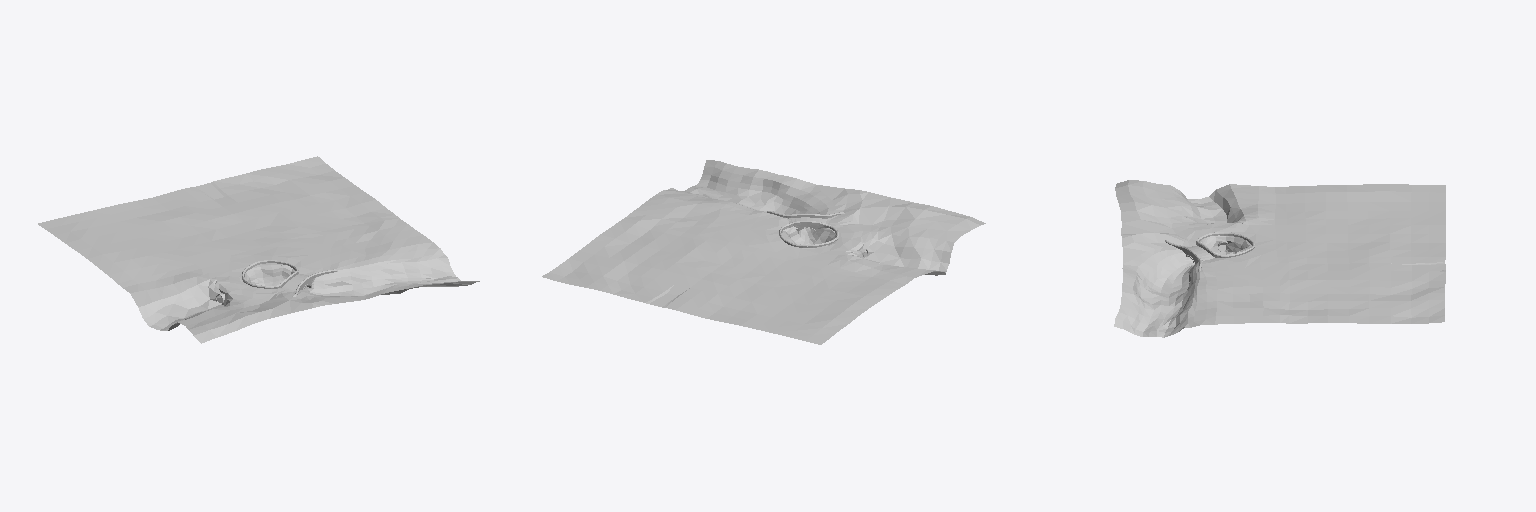
File: terrain 1.obj
The picture shows the model from 3 angles: view 1: azimuth 30°, elevation 25°; view 2: azimuth 150°, elevation 25°; view 3: azimuth 270°, elevation 25°; orthographic projection.
Visible parts, largest first — view 1: terrain2:RetopoGroup1, bridge:pPipe1; view 2: terrain2:RetopoGroup1, bridge:pPipe1; view 3: terrain2:RetopoGroup1, bridge:pPipe1.
Part boxes in pixels (x1,y1,x2,y2): terrain2:RetopoGroup1: (38,156,479,343); bridge:pPipe1: (242,260,337,296); terrain2:RetopoGroup1: (542,160,985,344); bridge:pPipe1: (767,211,844,247); terrain2:RetopoGroup1: (1114,180,1445,337); bridge:pPipe1: (1165,232,1255,271).
Size of the model in its own units: 174 by 15.2 by 172.